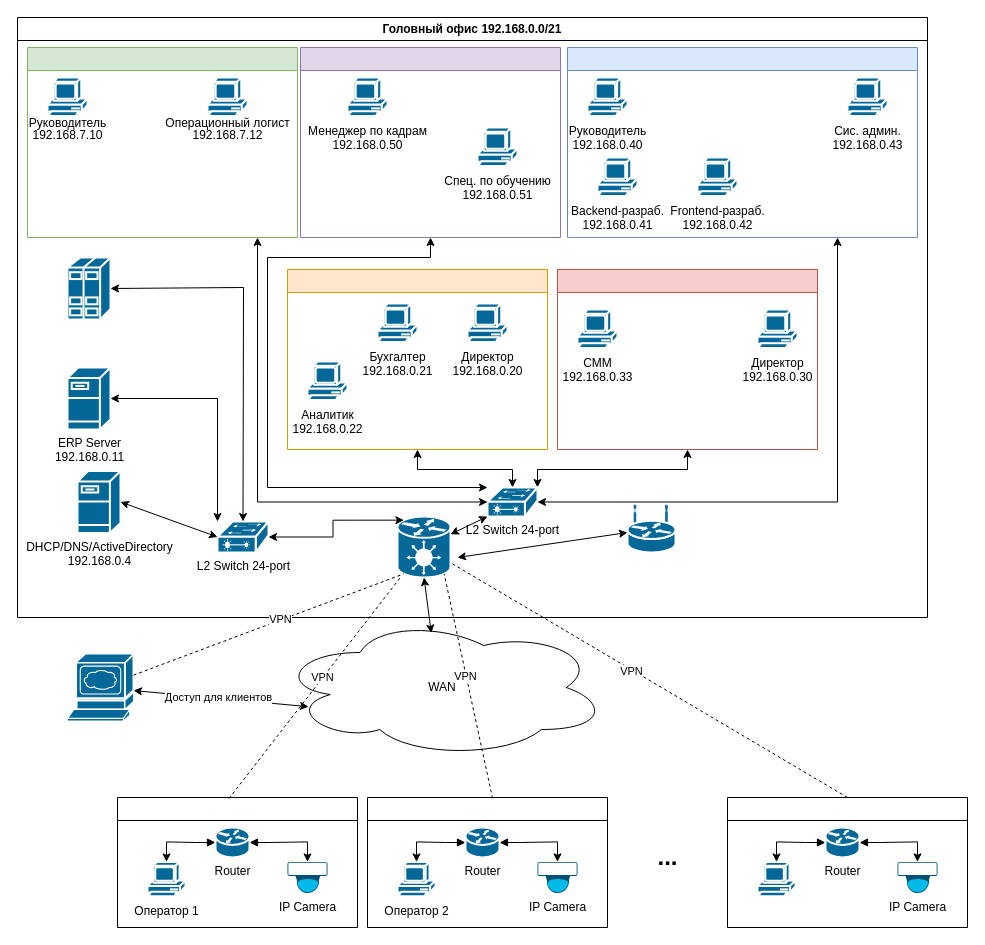
This 985x945 diagram has some shape labels left out. Each missing label, with the box of its shape:
DB (Oracle, Postgres) 192.168.0.10: (66, 256, 111, 320)
Gateway 192.168.0.1: (396, 515, 451, 578)
Mesh Wi-Fi 192.168.0.3: (626, 504, 676, 553)
Web-Site on Dedicated Server: (66, 652, 134, 722)
ИТ отдел: (566, 46, 918, 238)
ЛС Почтового отделения 1: (116, 796, 358, 928)
ЛС Почтового отделения 2: (366, 796, 608, 928)
ЛС Почтового отделения N: (726, 796, 968, 928)
Оператор N: (756, 860, 796, 898)
Отдел кадров: (300, 46, 560, 238)
Отдел логистики: (26, 46, 298, 238)
Отдел маркетинга: (556, 268, 818, 450)
Финансовый отдел: (286, 268, 548, 450)
